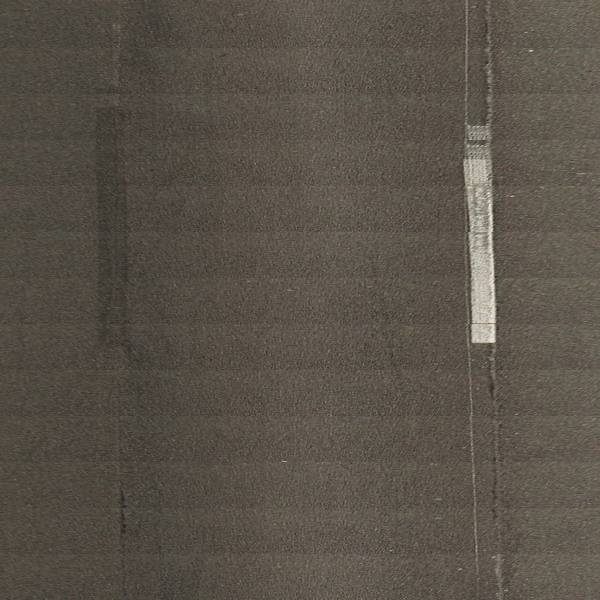road_damage: (487, 367, 509, 566), (116, 485, 130, 541)
